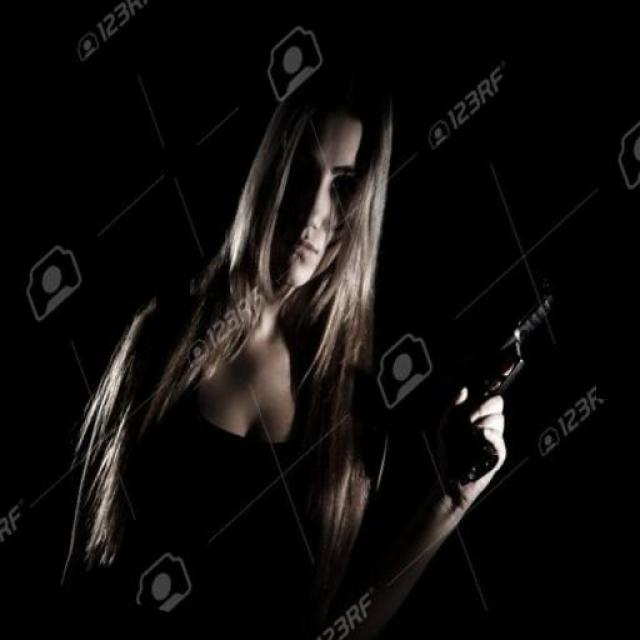gun: (406, 250, 562, 496)
